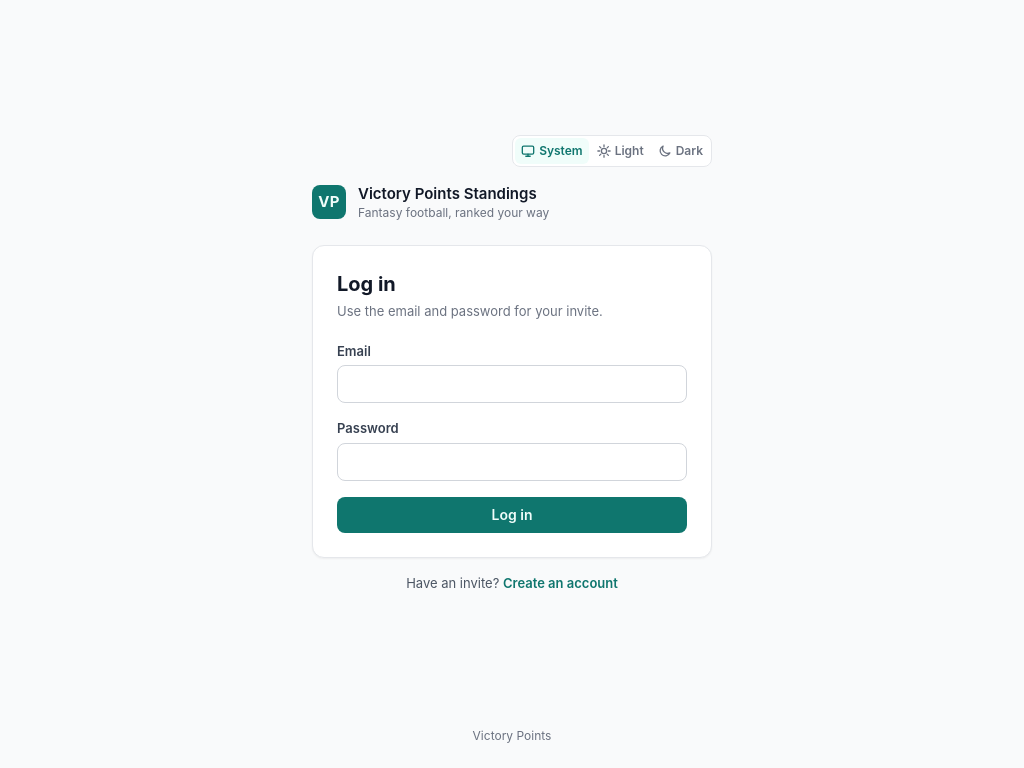
Test: App routing › returns to the requested route after login
Check: the heading "Log in" is shown, box 337,272 -> 396,296
In the field labelled "Email": (512, 384) 337,365 -> 687,403, type "admin@example.com"
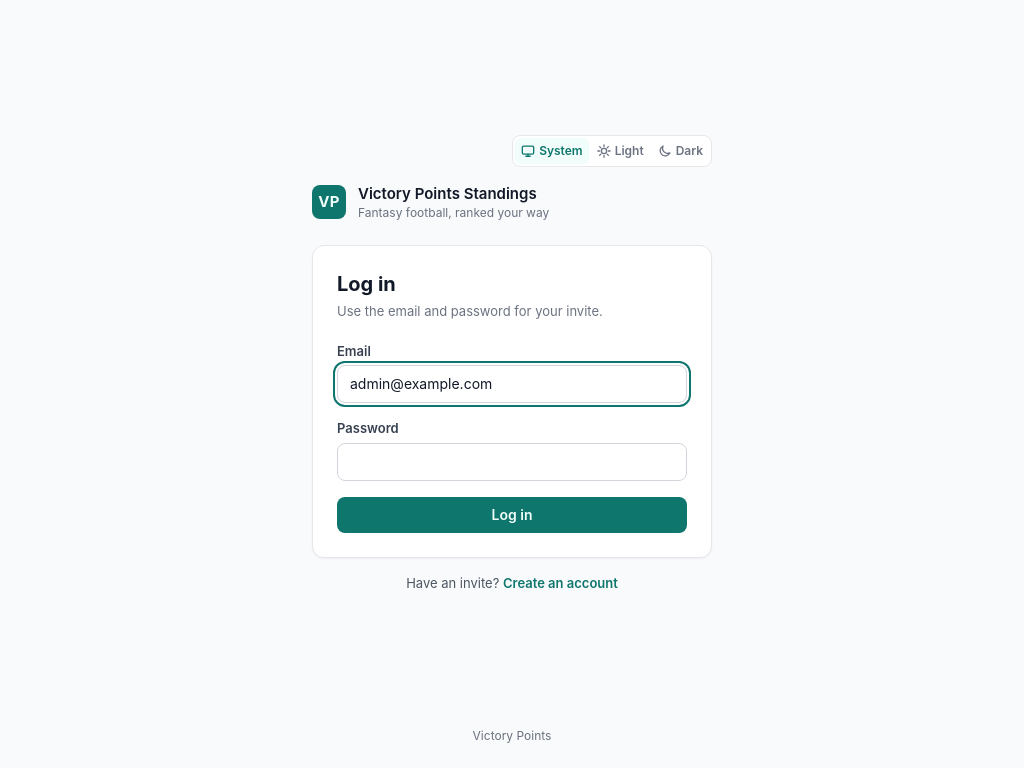
In the password field labelled "Password": (512, 462) 337,443 -> 687,481, type "password"
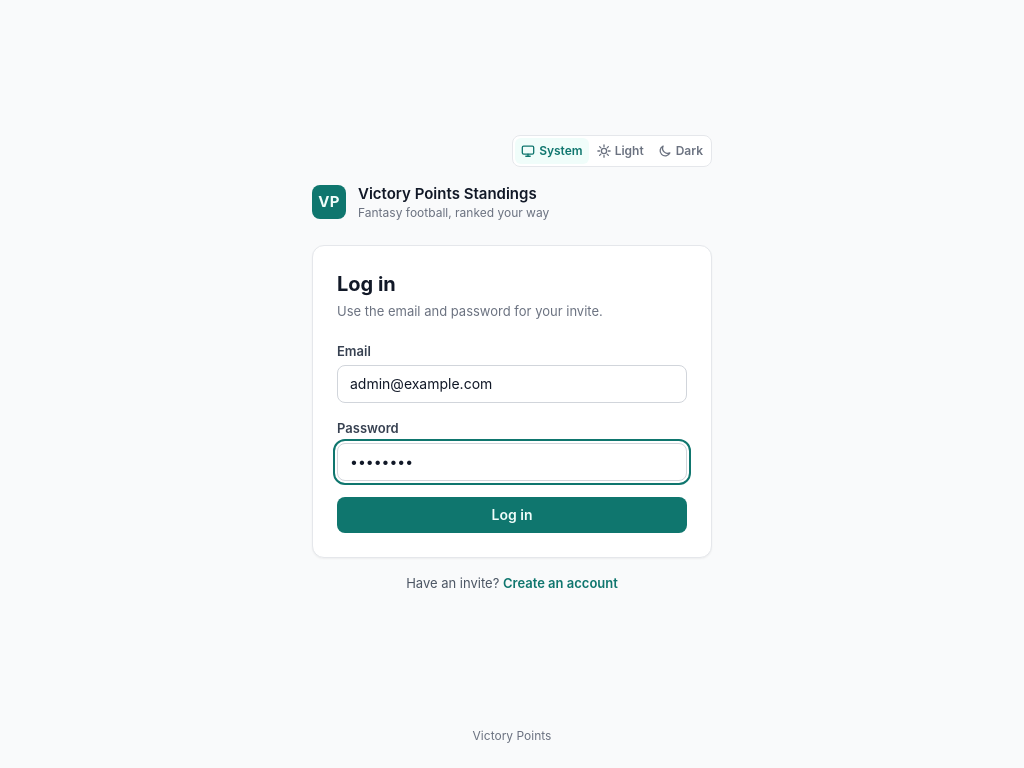
Click the button "Log in": (512, 515) 337,497 -> 687,533
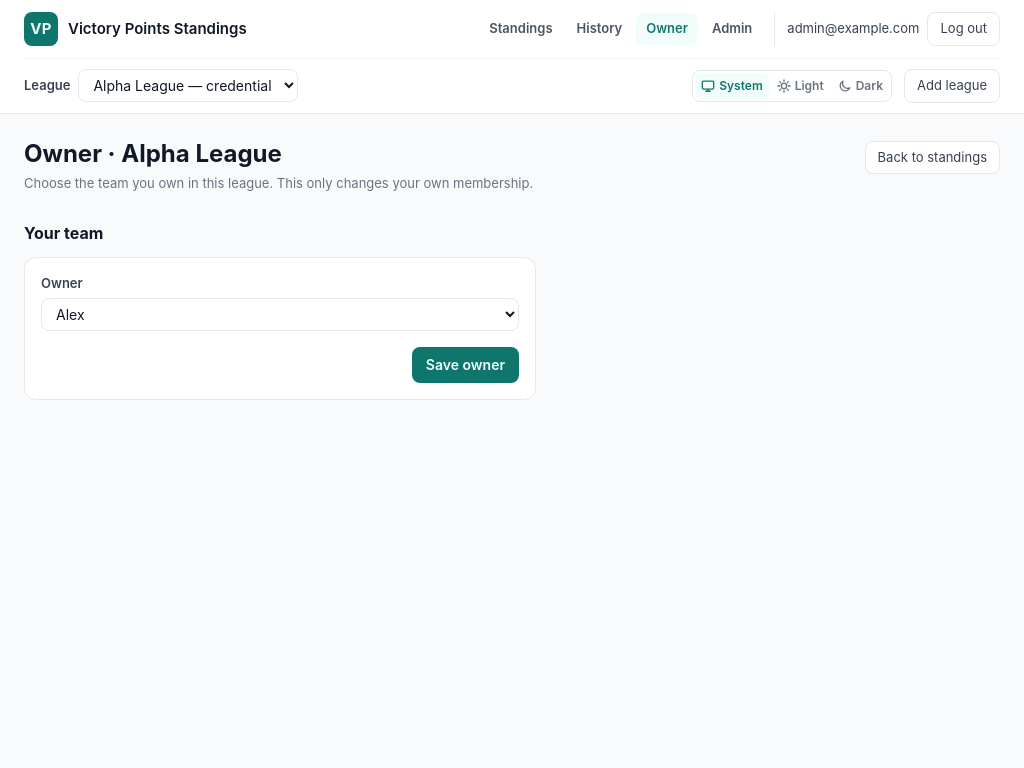
Check: the heading "Owner · Alpha League" is shown, box 24,138 -> 282,168
